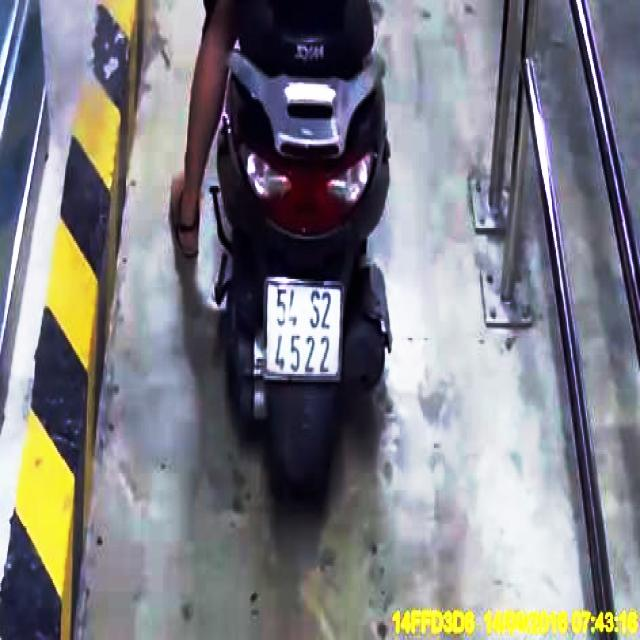license_plate: (269, 280, 343, 378)
